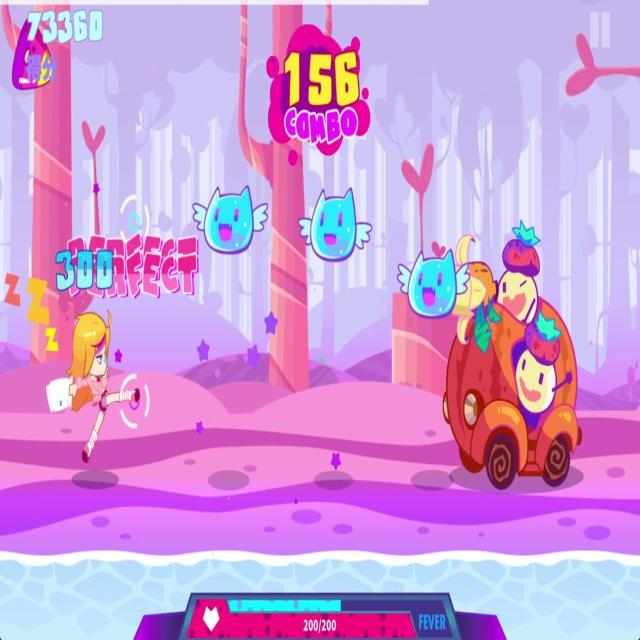cheboss: (442, 237, 582, 492)
jian: (13, 18, 55, 91)
mao: (392, 232, 472, 327), (300, 176, 376, 264), (191, 184, 268, 254)
